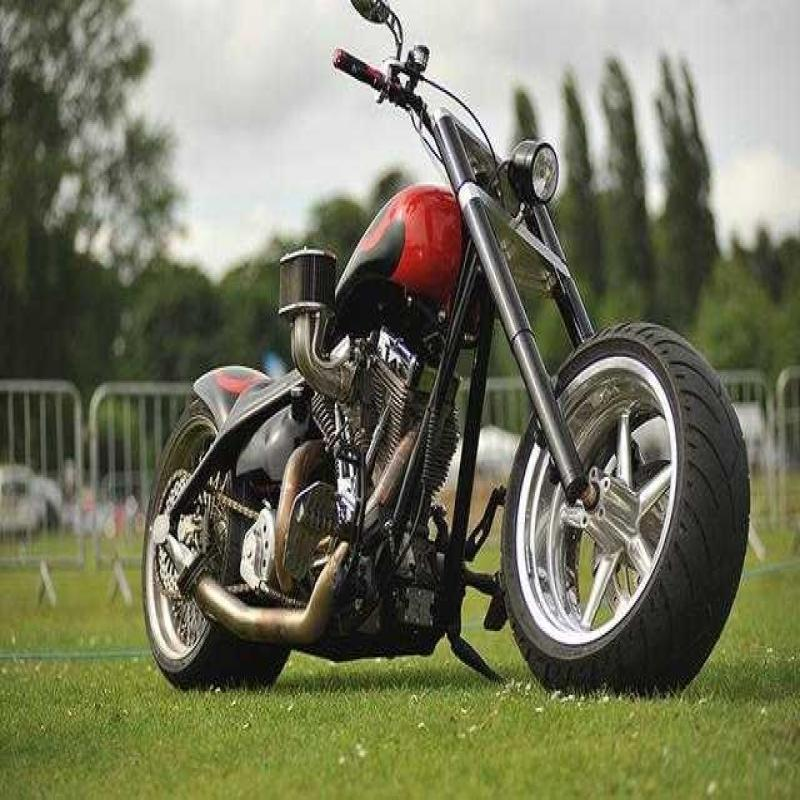bike: (110, 2, 736, 699)
